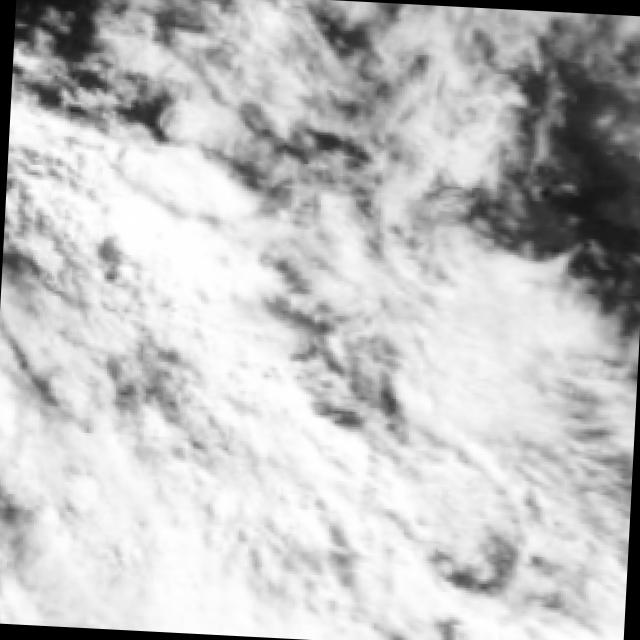CB: (14, 441, 228, 634), (212, 451, 403, 640), (400, 280, 580, 468), (118, 180, 264, 351), (170, 332, 306, 468)
